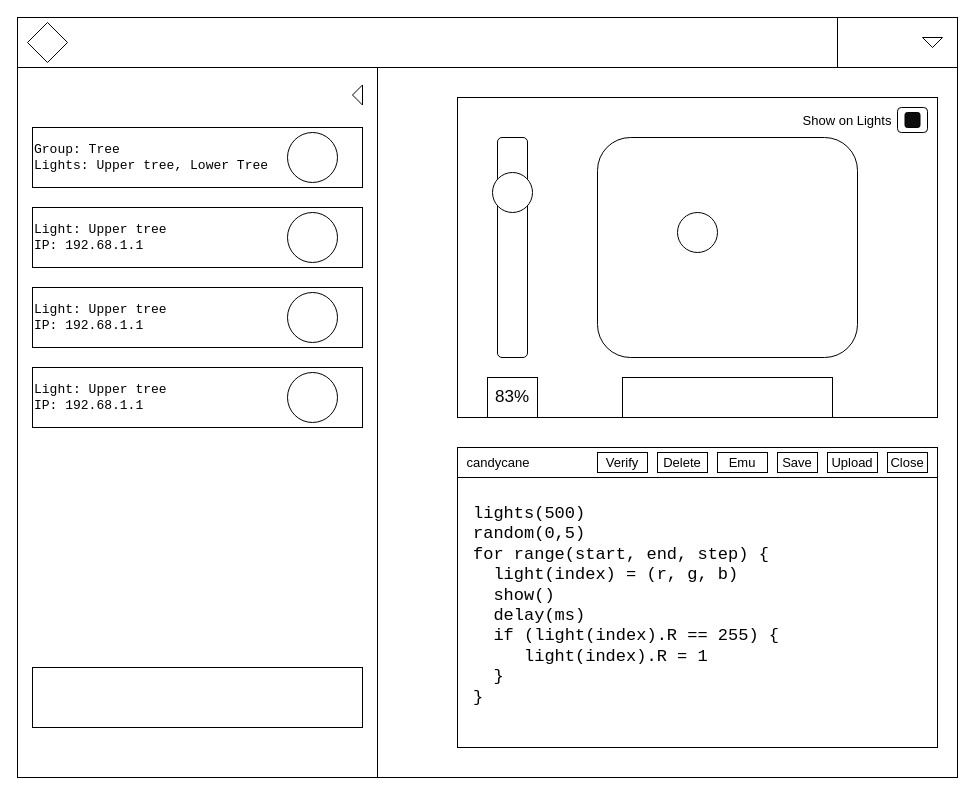
The diagram is 975 pixels wide and 795 high, and some of its shapes have lost their labels. The shapes that lost their labels are listed below. From the top down, each one's centre as x and y in pixels, then its label:
At (x=897, y=42): "User".
At (x=727, y=397): "R: 255 G: 128 B: 32".
At (x=197, y=697): "Add New Light/Group".
